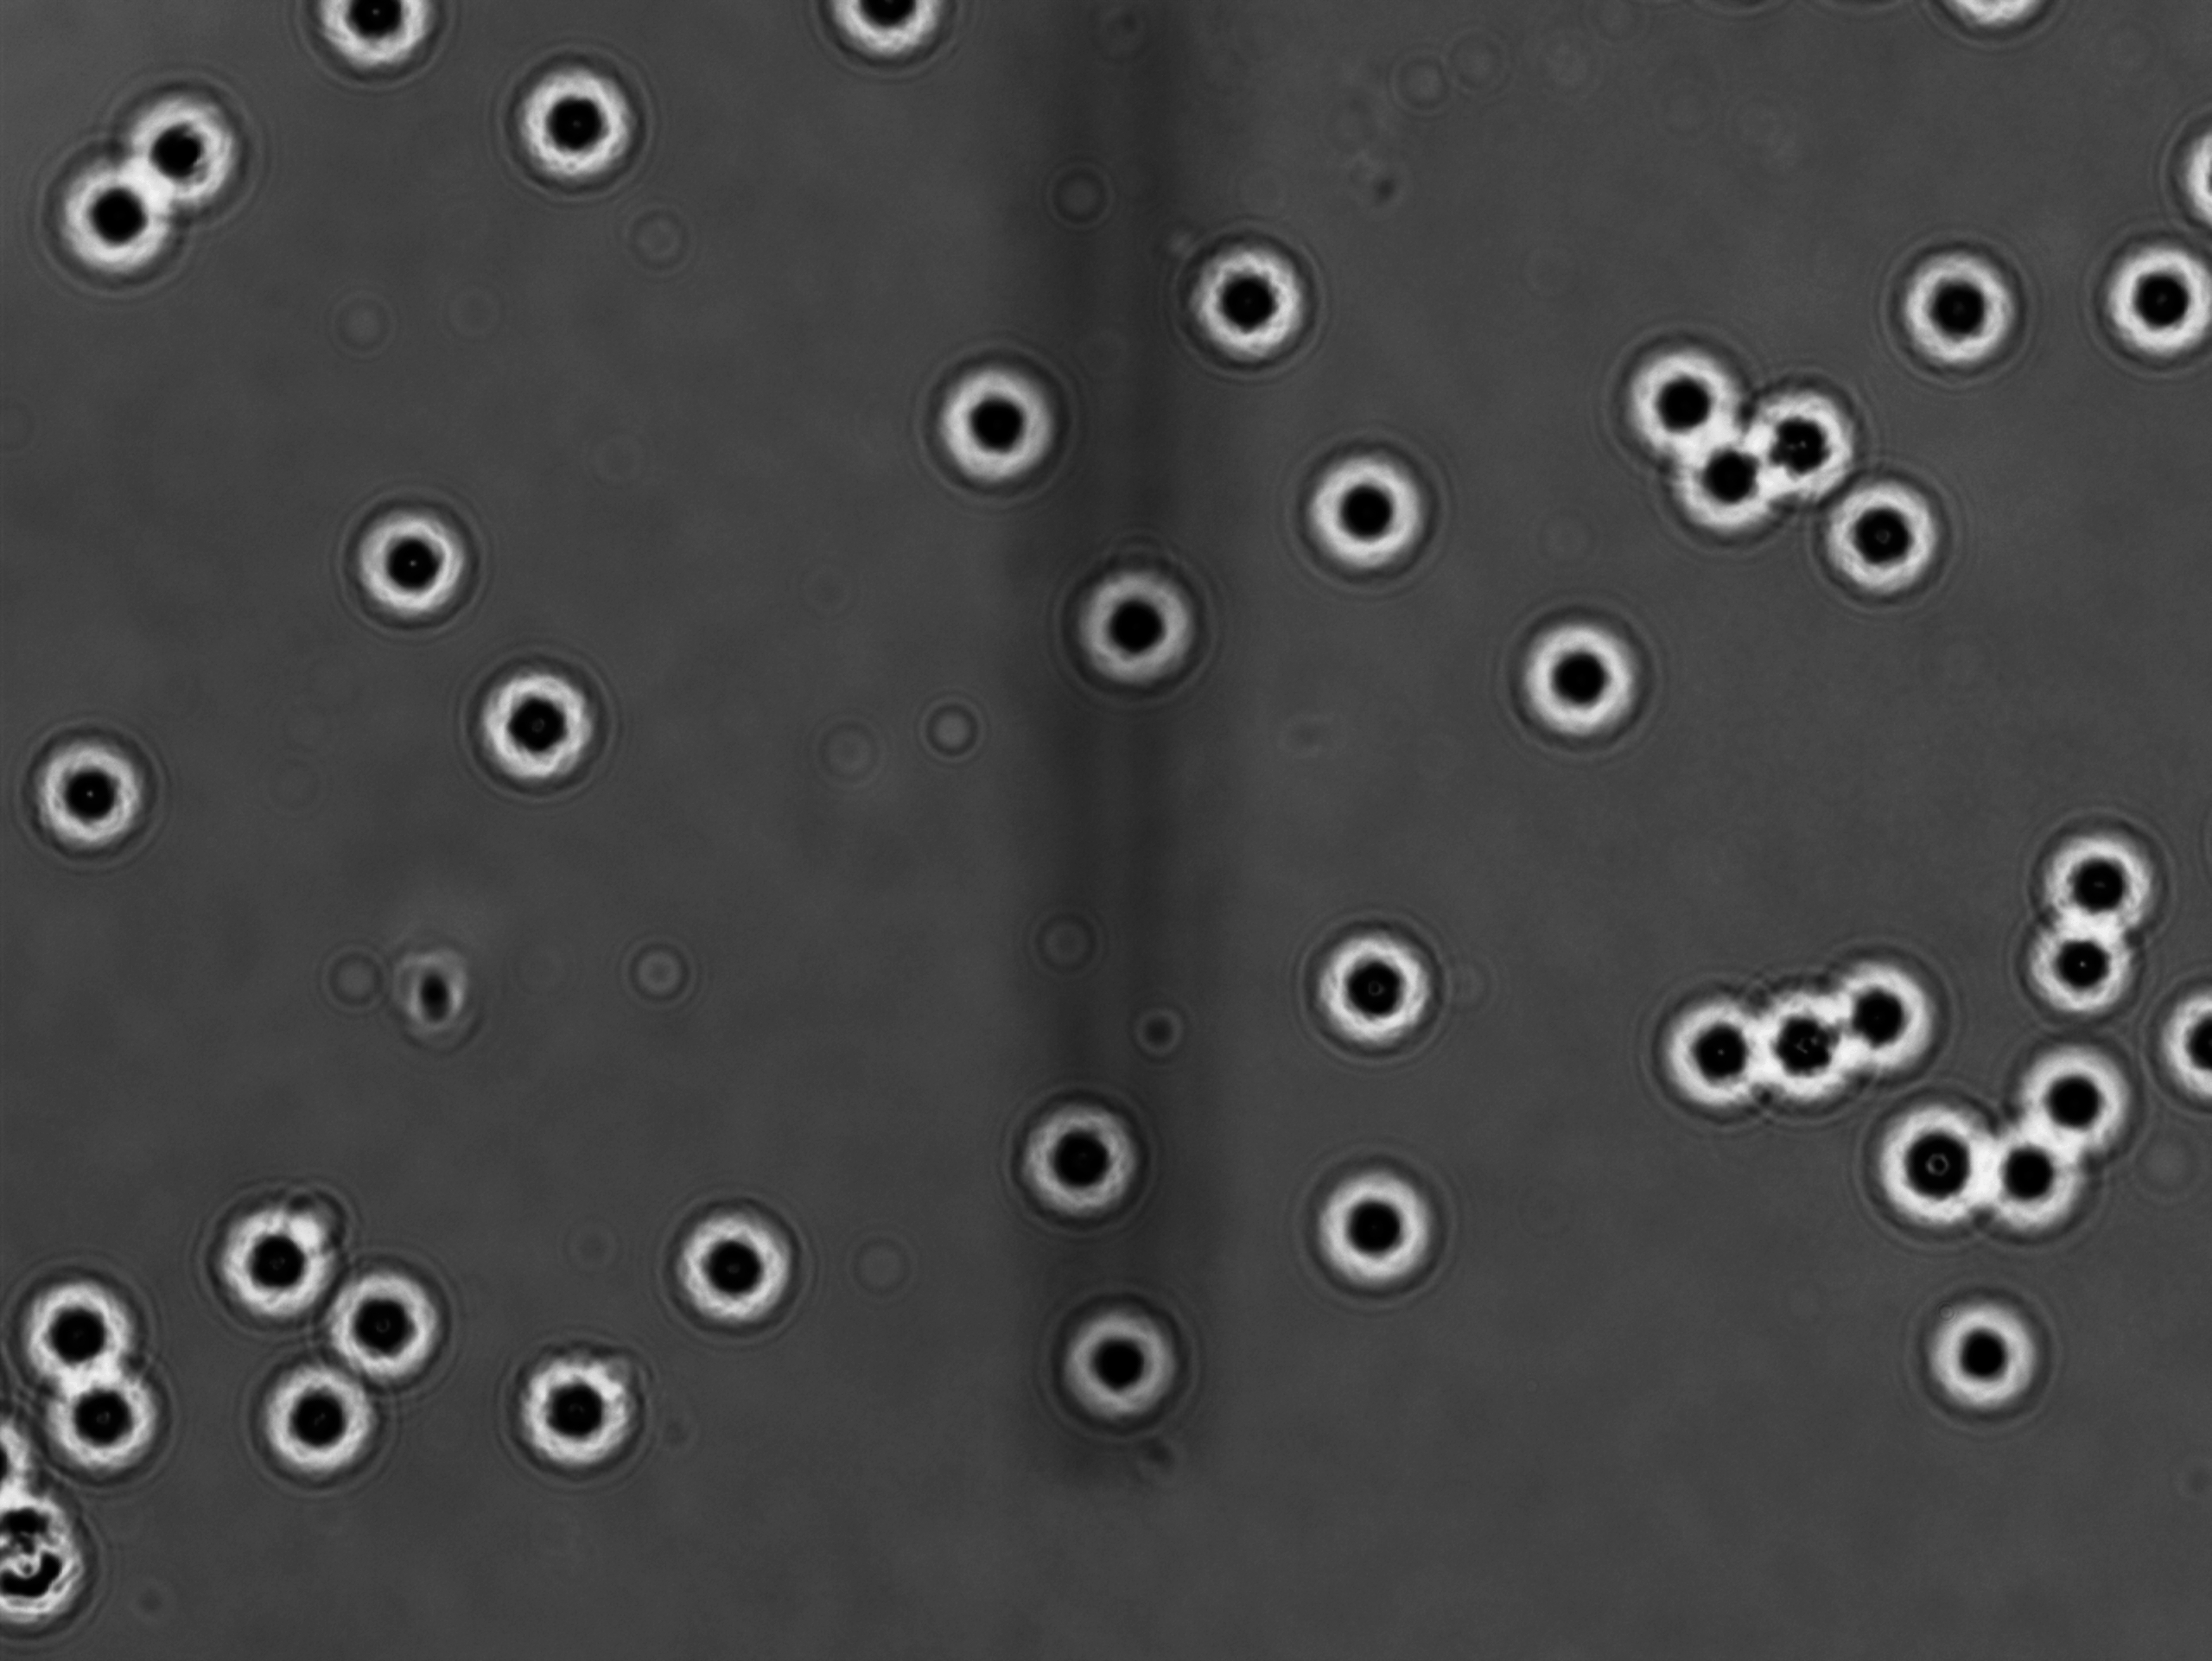depth:-20: (1499, 579, 1666, 766), (1858, 237, 2050, 393), (461, 635, 626, 808), (1287, 1145, 1460, 1307), (2015, 867, 2170, 1047), (19, 147, 185, 314), (492, 1328, 665, 1488), (1908, 1281, 2081, 1441), (1043, 1277, 1223, 1431), (94, 73, 270, 229), (1174, 216, 1338, 382), (242, 1343, 410, 1506), (1286, 434, 1457, 593), (654, 1185, 813, 1354), (1291, 899, 1450, 1064), (912, 340, 1083, 494), (497, 35, 649, 206), (195, 1174, 356, 1333), (1059, 544, 1214, 705), (1638, 979, 1797, 1134), (1858, 1089, 2010, 1249), (14, 710, 169, 865), (1010, 1083, 1169, 1235), (314, 1242, 473, 1385), (1989, 1089, 2123, 1256), (2029, 803, 2179, 951), (1607, 333, 1751, 487), (1823, 468, 1968, 621), (1996, 1033, 2144, 1181), (1729, 361, 1872, 509), (2076, 229, 2212, 384), (1751, 974, 1884, 1129), (1825, 953, 1963, 1101), (340, 497, 483, 637), (1682, 424, 1813, 544)
